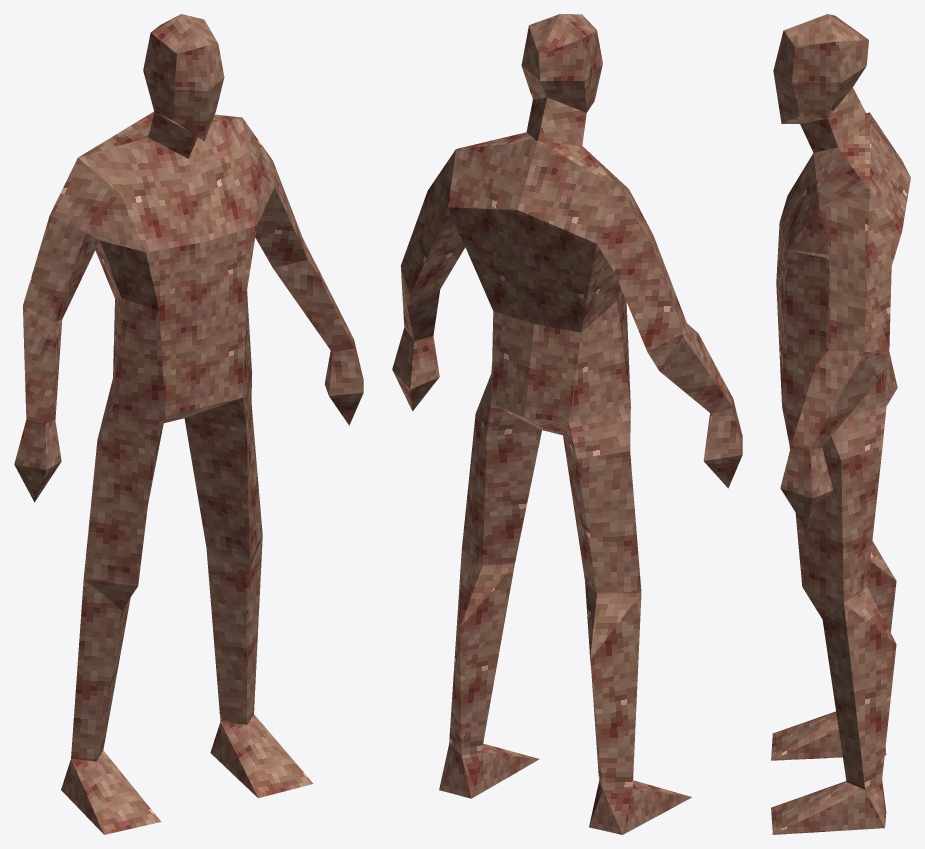
Rendered from ZombieGibs.fbx.
3 renders of one model, left to right at view 1: azimuth 30°, elevation 25°; view 2: azimuth 150°, elevation 25°; view 3: azimuth 270°, elevation 25°, orthographic.
Parts seen in each view (by area): view 1: Cube.002, Cube.007, Cube.001, Cube.005, Cube.006, Cube.004, Cube.008; view 2: Cube.007, Cube.002, Cube.001, Cube.004, Cube.006, Cube.005, Cube.008; view 3: Cube.002, Cube.001, Cube.008, Cube.005, Cube.006, Cube.007.
Boxes of the visible parts, x1=… form: Cube.002: x1=50, y1=14, x2=274, y2=252; Cube.007: x1=83, y1=240, x2=207, y2=609; Cube.001: x1=175, y1=225, x2=262, y2=579; Cube.005: x1=206, y1=536, x2=313, y2=798; Cube.006: x1=61, y1=579, x2=161, y2=834; Cube.004: x1=14, y1=215, x2=99, y2=502; Cube.008: x1=255, y1=161, x2=363, y2=425; Cube.007: x1=517, y1=210, x2=641, y2=659; Cube.002: x1=428, y1=14, x2=653, y2=271; Cube.001: x1=448, y1=207, x2=551, y2=627; Cube.004: x1=614, y1=235, x2=742, y2=488; Cube.006: x1=589, y1=593, x2=691, y2=834; Cube.005: x1=439, y1=554, x2=539, y2=798; Cube.008: x1=392, y1=191, x2=465, y2=411; Cube.002: x1=773, y1=14, x2=910, y2=266; Cube.001: x1=776, y1=223, x2=897, y2=643; Cube.008: x1=780, y1=255, x2=891, y2=529; Cube.005: x1=771, y1=603, x2=896, y2=834; Cube.006: x1=771, y1=561, x2=896, y2=760; Cube.007: x1=870, y1=541, x2=895, y2=580.
Bounding box in the file's own units: 96.64 × 205 × 33.75.
